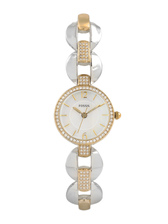watch: (43, 16, 125, 213)
